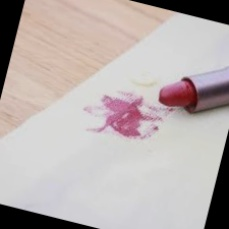lipstick: (76, 83, 175, 154)
